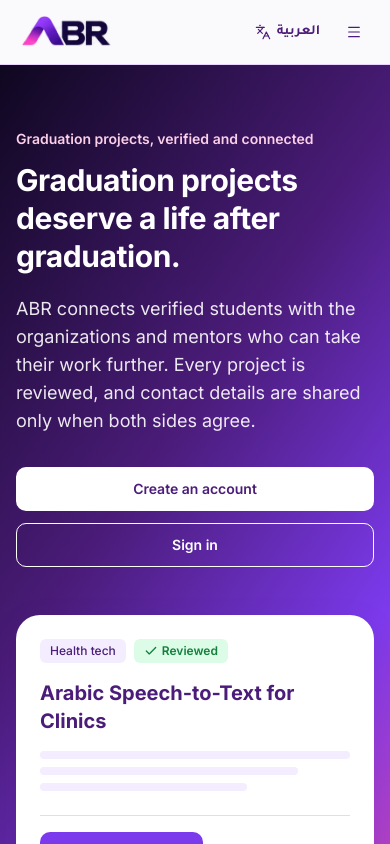
it: MobileMenu › closes when a link is chosen
The image size is (390, 844).
Step 1. Click the button named "Menu" → x=354, y=32, box [334,12,374,52]
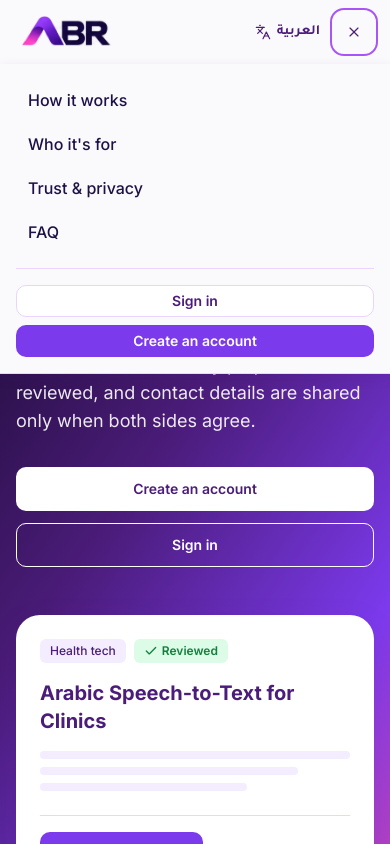
Step 2. Click the link "FAQ" → x=44, y=232, box [28,222,59,242]
(page scrolled)
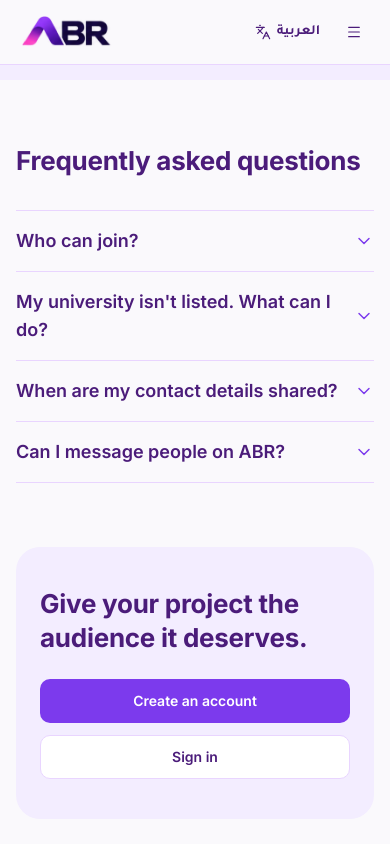
expect the button named "Menu" is collapsed: met, box [334,12,374,52]
